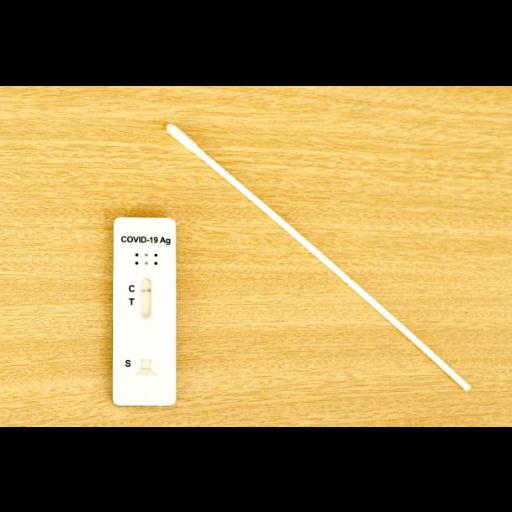Neg: (114, 216, 176, 402)
